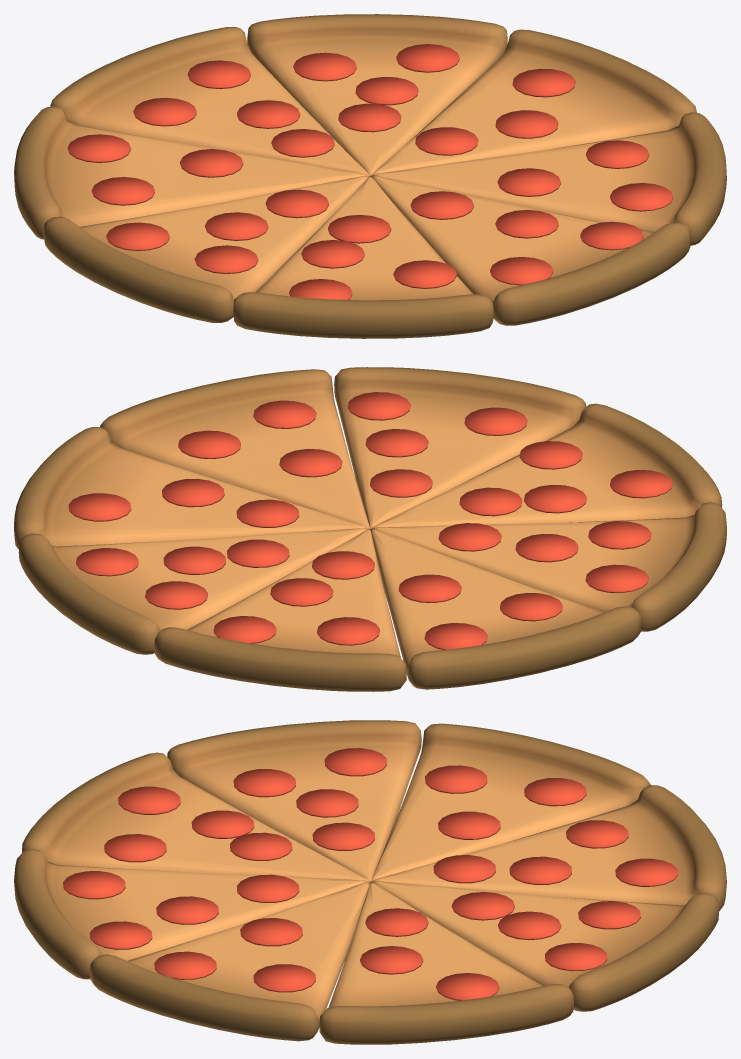
The model's file is Pizza.glb.
3 views of the same model, one above another, from view 1: azimuth 30°, elevation 25°; view 2: azimuth 150°, elevation 25°; view 3: azimuth 270°, elevation 25° (orthographic).
Visible parts, largest first — view 1: Pizza, Pepperoni; view 2: Pizza, Pepperoni; view 3: Pizza, Pepperoni.
Boxes of the visible parts, x1,y1,x2,y2 form: Pizza: (14,14,726,338); Pepperoni: (67,44,673,299); Pizza: (14,367,726,691); Pepperoni: (68,392,672,649); Pizza: (14,720,726,1044); Pepperoni: (63,748,677,1000).
Bounding box in the file's own units: 4.28 × 0.2273 × 4.28.
Materials: 2 (2 with a texture image).
